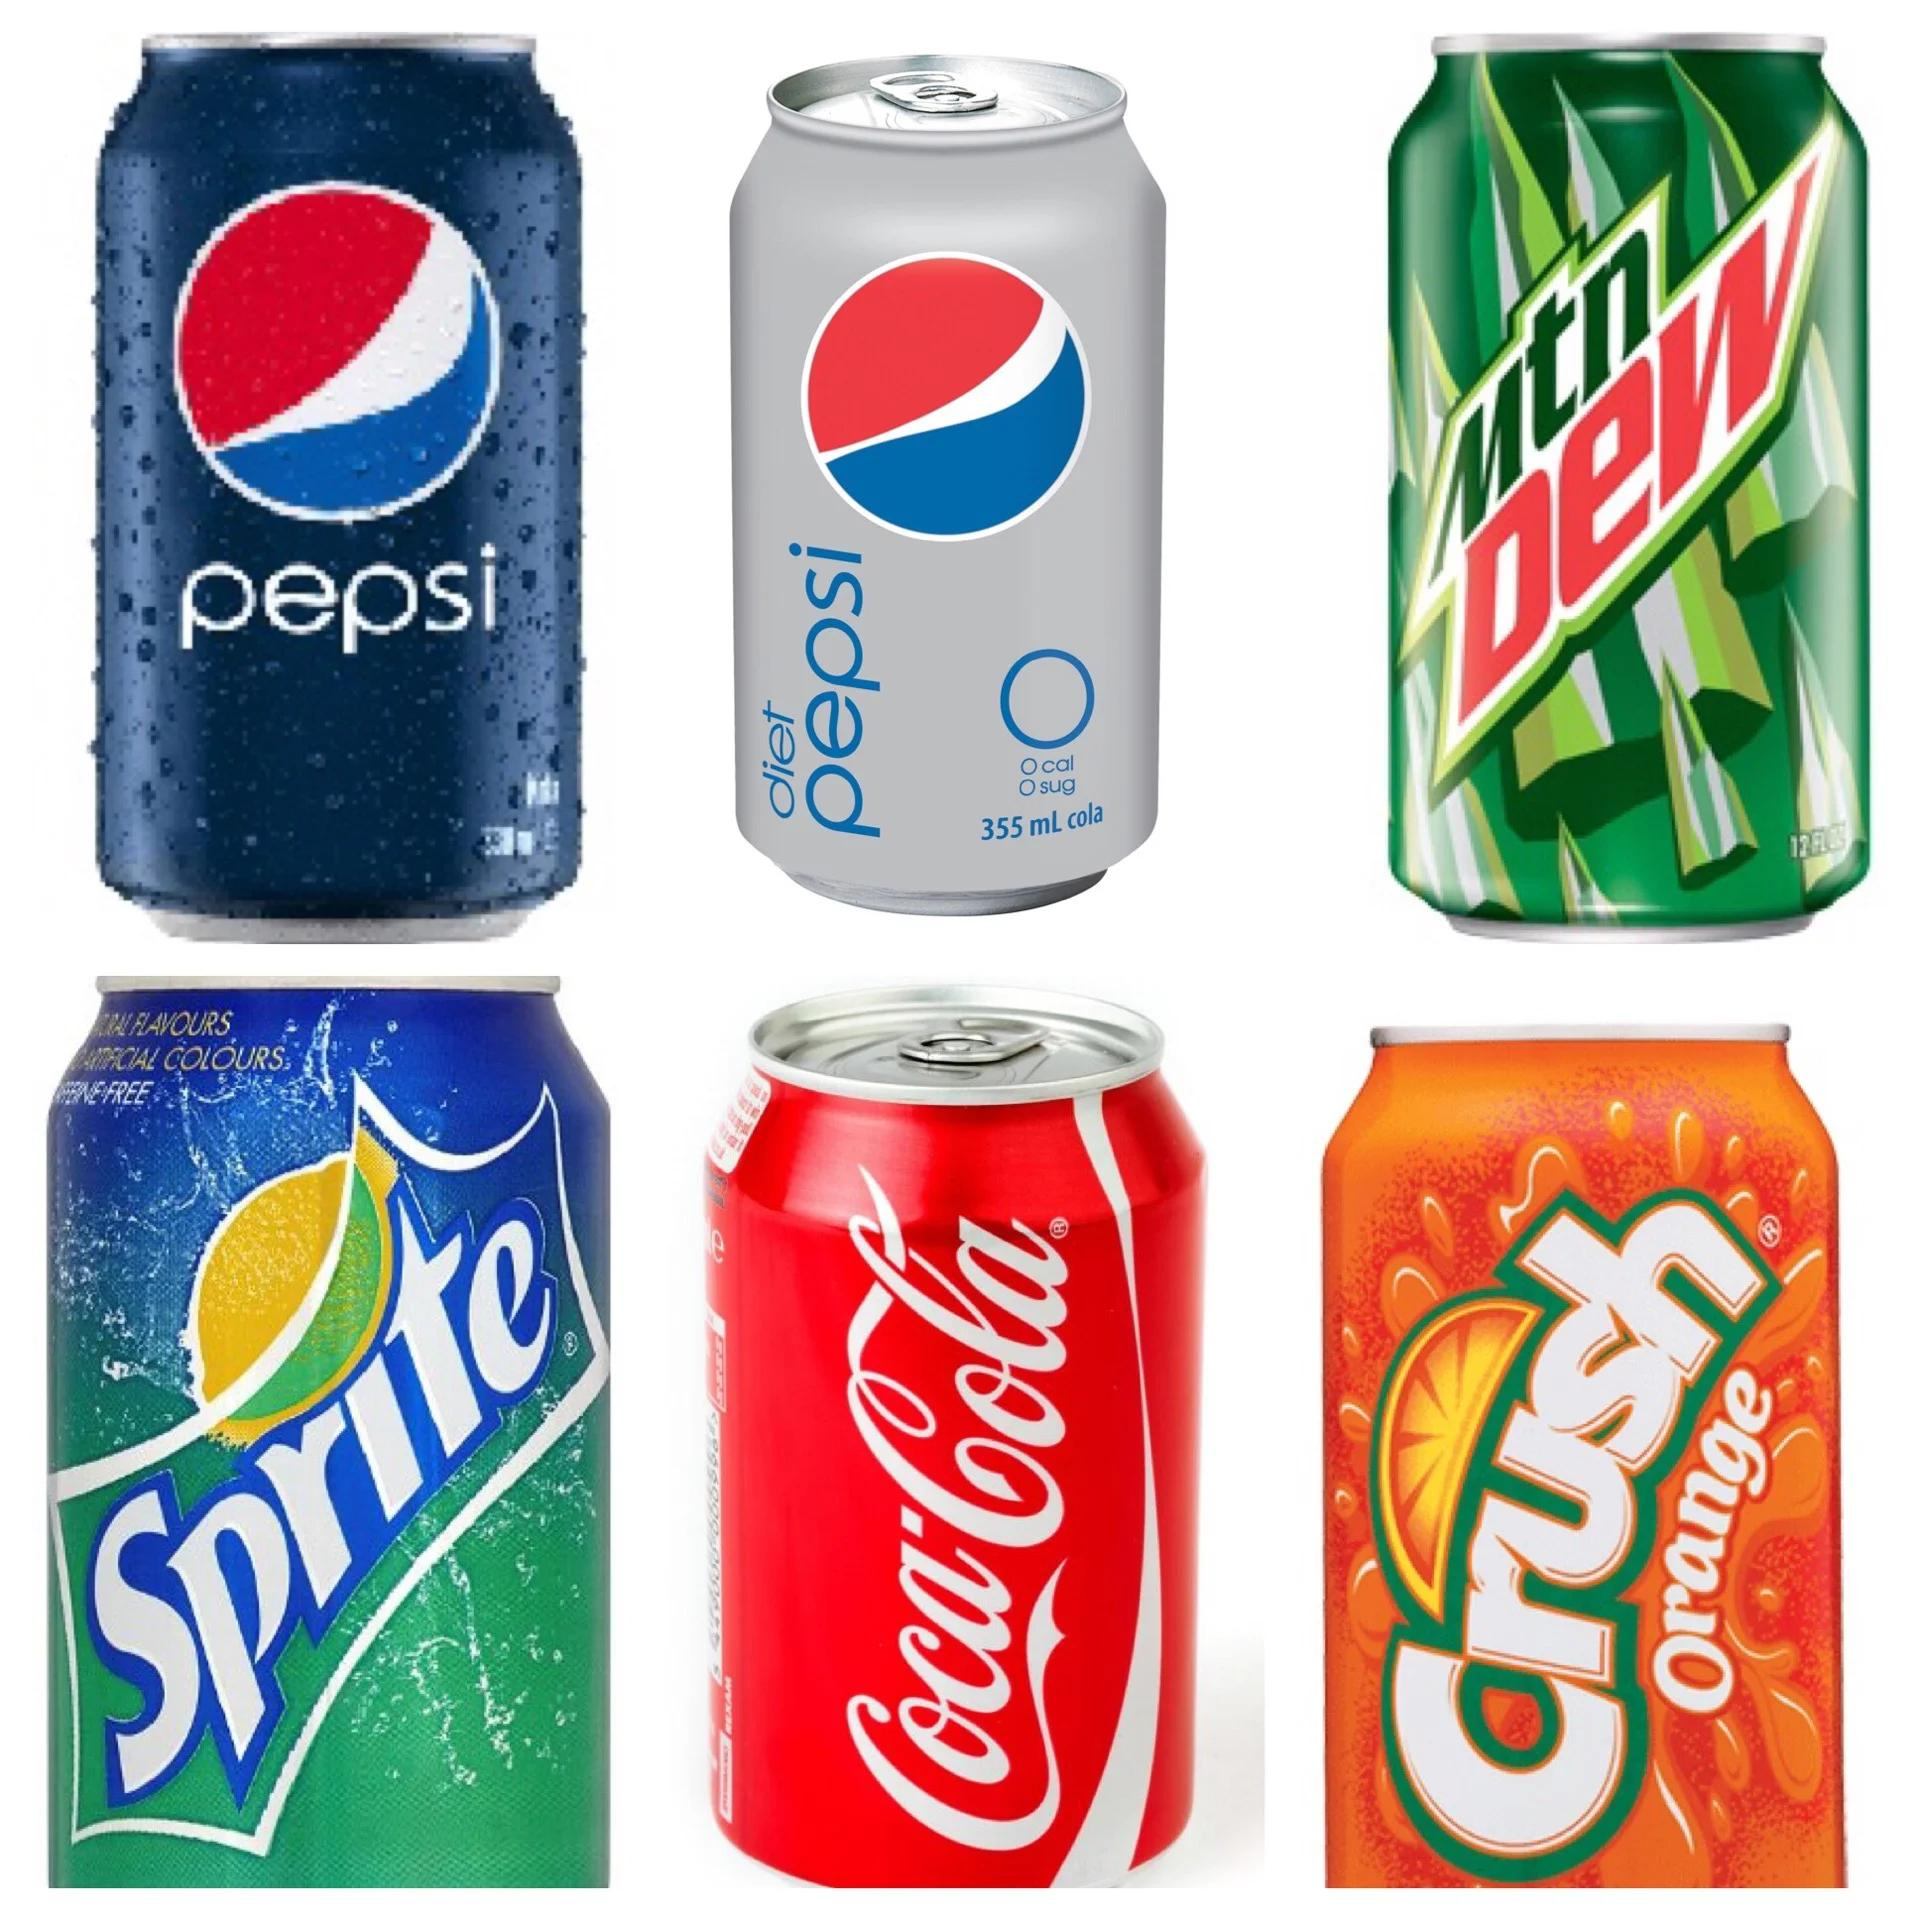can: (49, 986, 608, 1885), (707, 986, 1203, 1887), (1322, 1030, 1844, 1885), (93, 35, 580, 925), (1391, 37, 1869, 928), (731, 55, 1164, 914)
